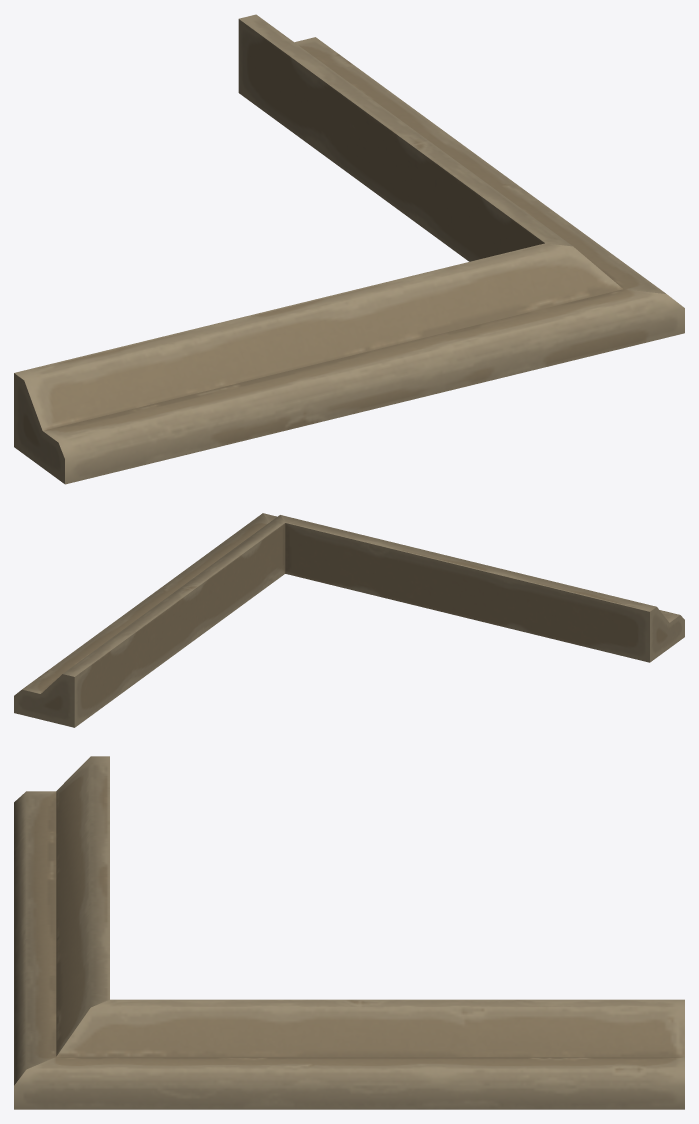
Rendered from ARC0510059.fbx.
3 views of the same model, one above another, from view 1: azimuth 30°, elevation 25°; view 2: azimuth 150°, elevation 25°; view 3: azimuth 270°, elevation 25° (orthographic). The views are drawn at different scales.
Parts seen in each view (by area): view 1: smARC0510059; view 2: smARC0510059; view 3: smARC0510059.
Part boxes in pixels (x1,y1,x2,y2): smARC0510059: (14,14,684,484); smARC0510059: (14,513,684,727); smARC0510059: (14,756,684,1109).
Bounding box in the file's own units: 175 × 20 × 175.
1 material, 1 textured.
